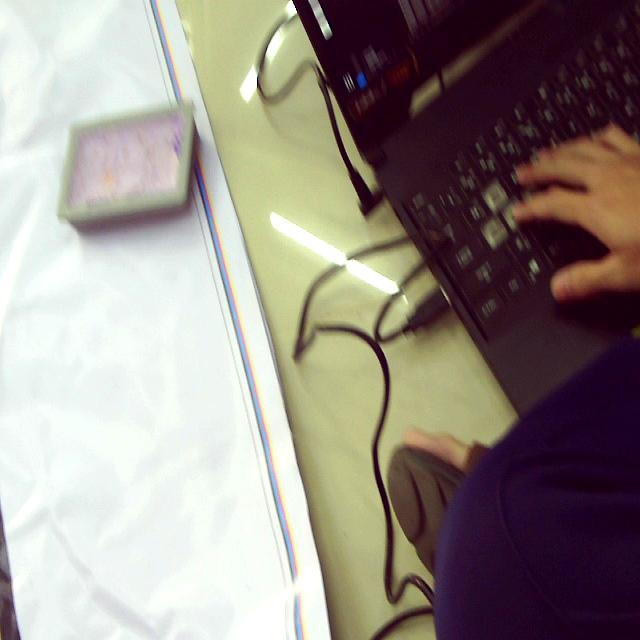block: (57, 103, 200, 225)
